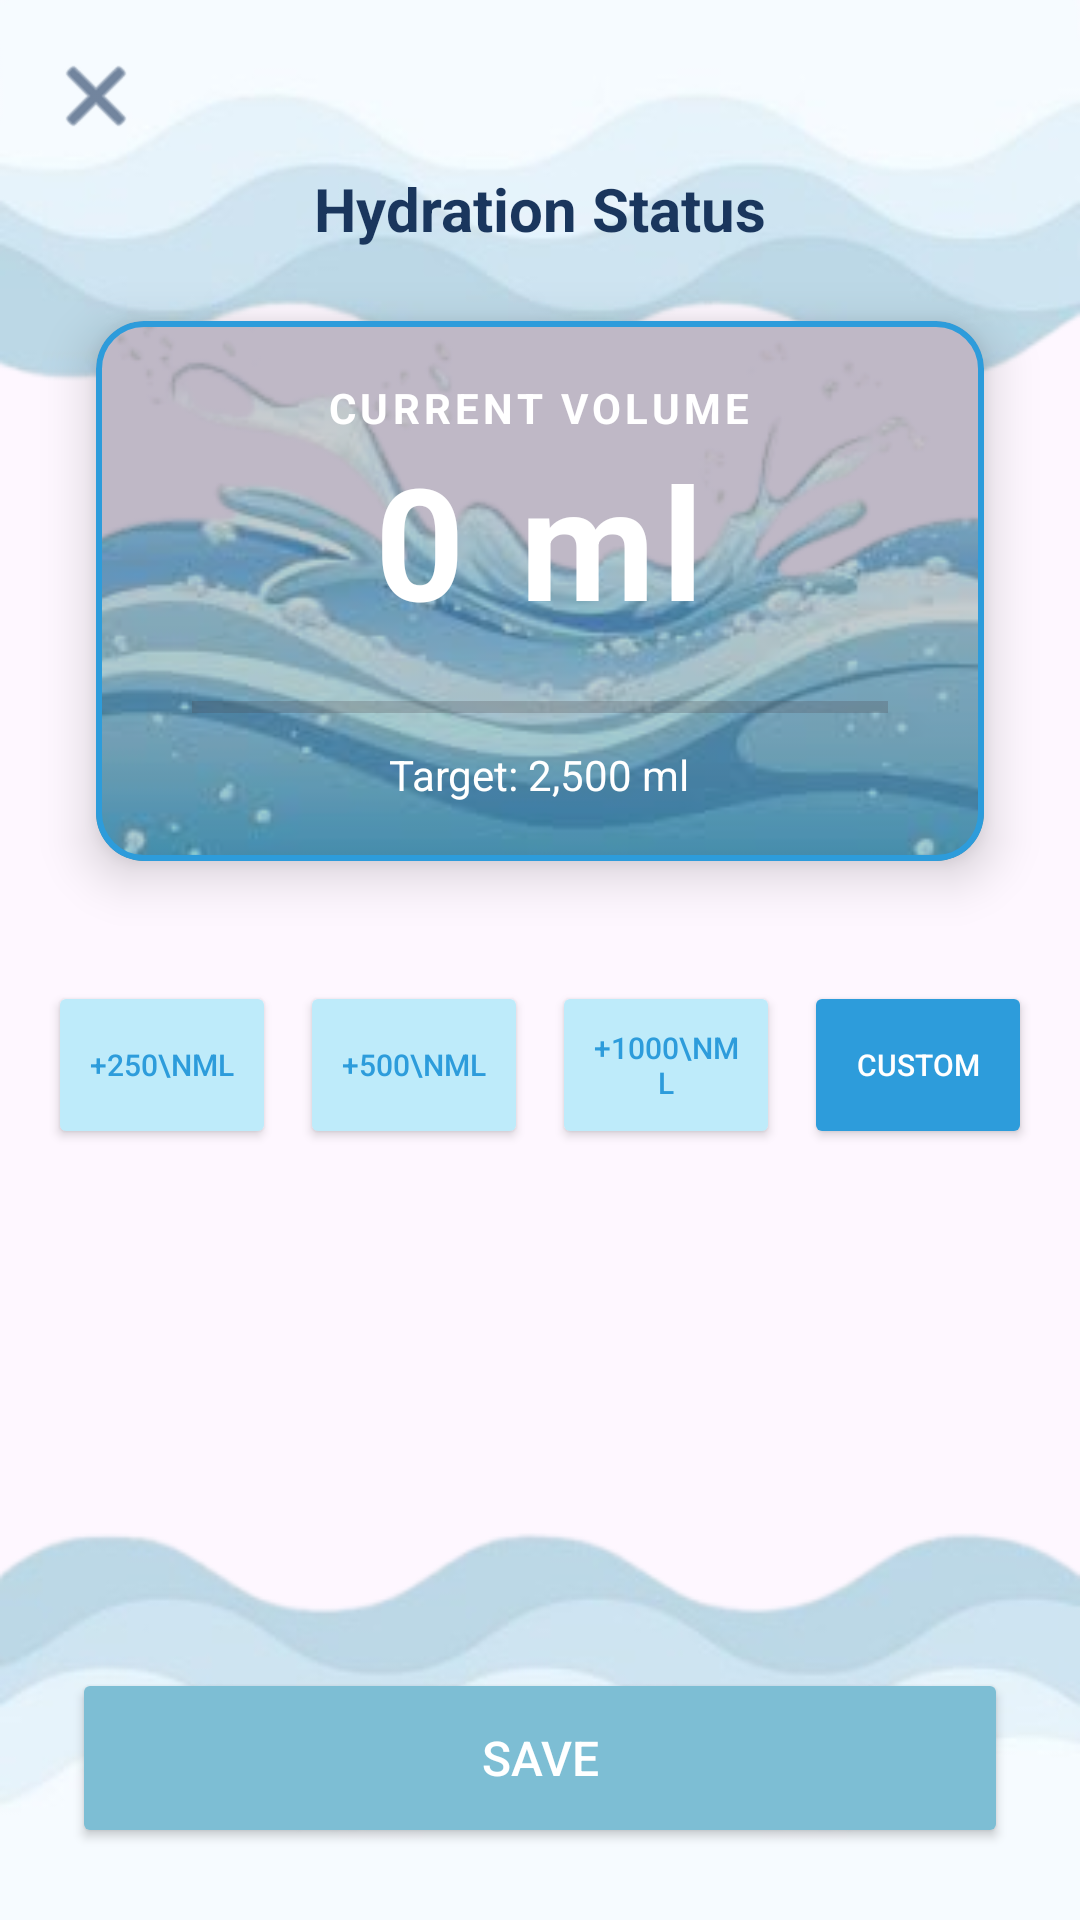

Where icons sit on this 1080 × 1920 app screen, as bbox=(x1, y1, x2, y2):
close clear cancel: bbox=(66, 66, 126, 126)
